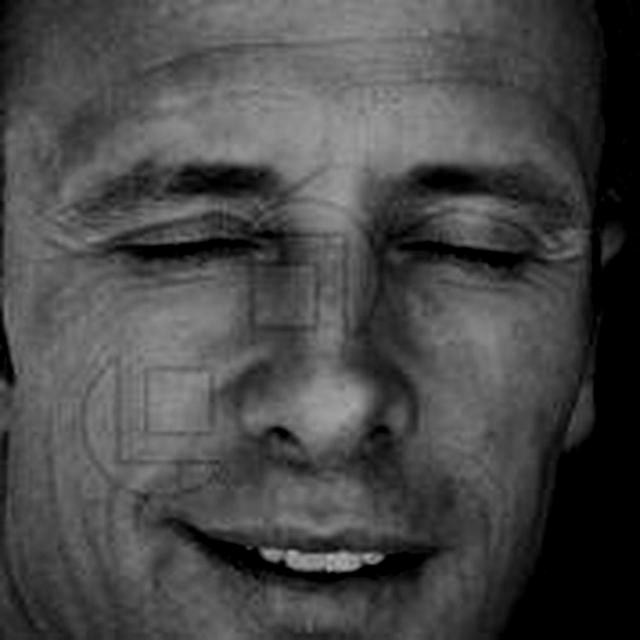real: (1, 0, 611, 640), (74, 162, 576, 302)
